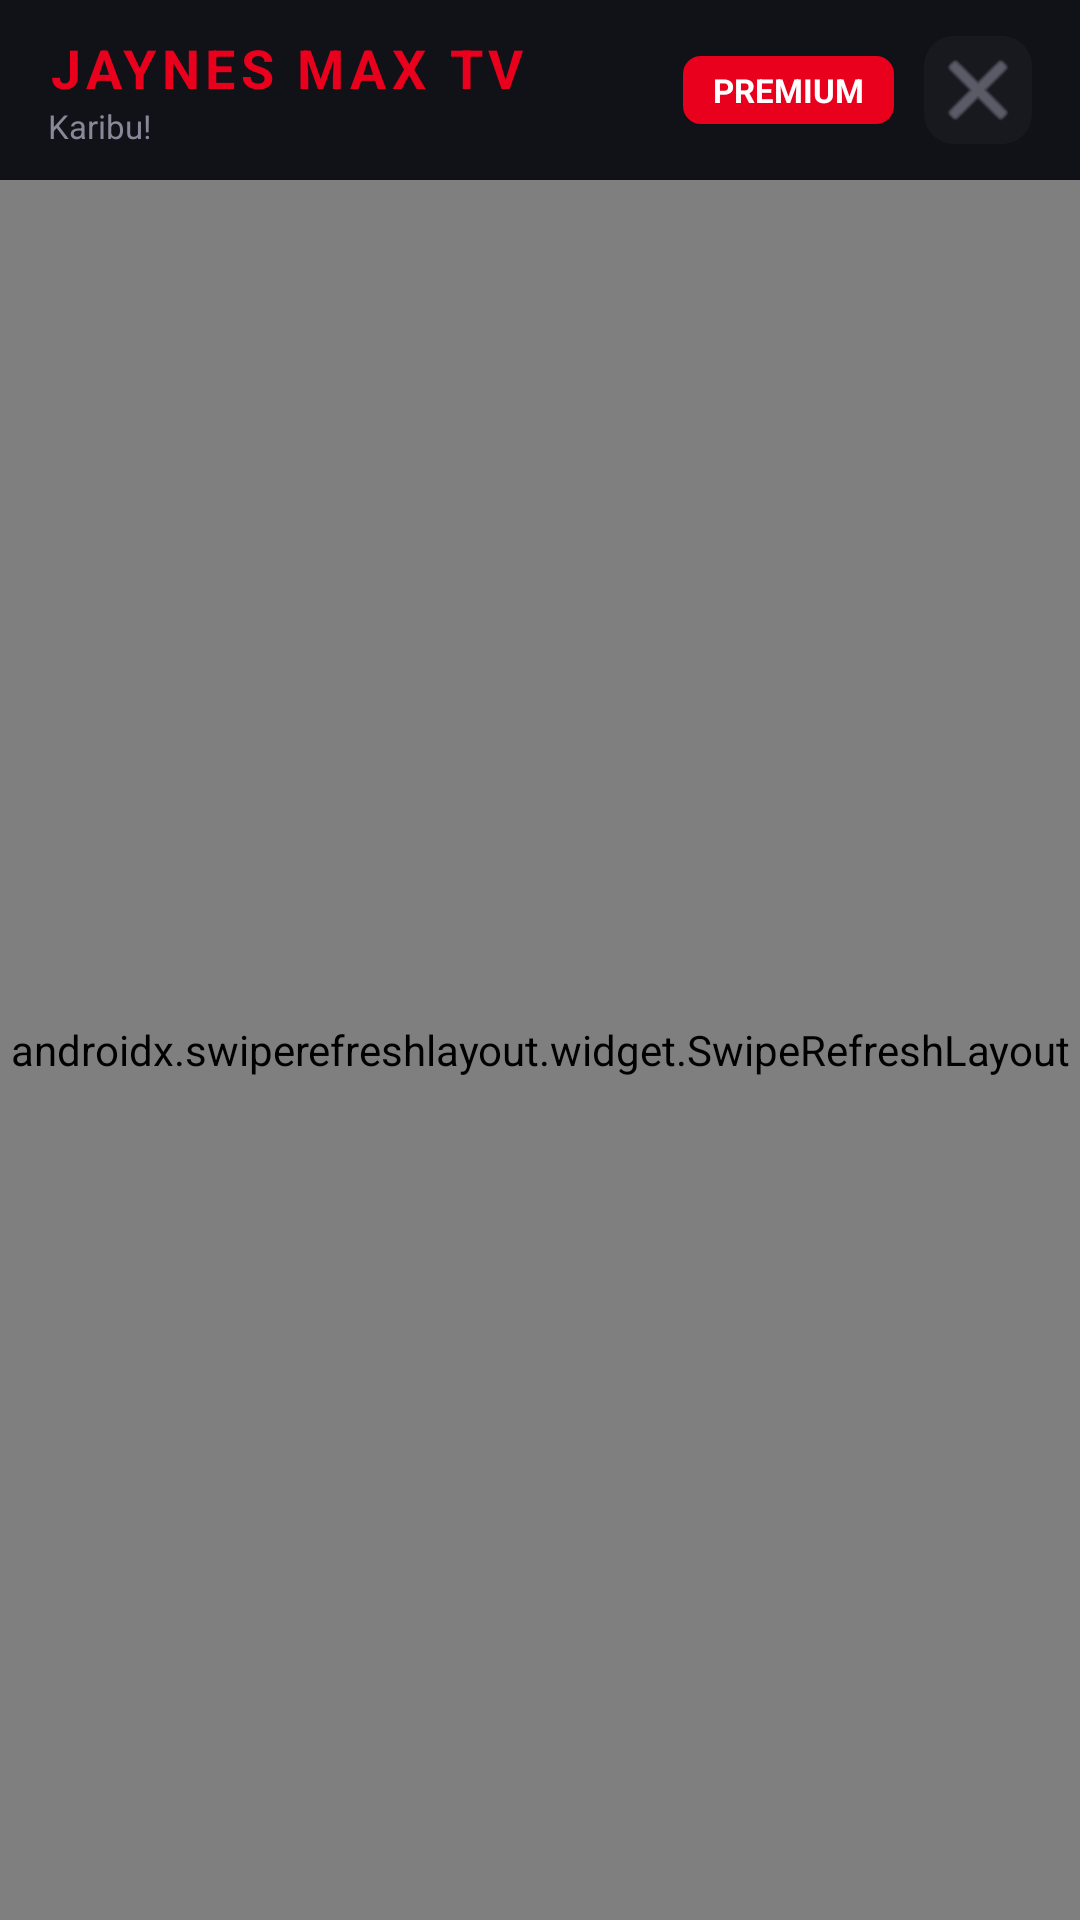

Icon click points for this 1080w x 1920h phone screenshot, format (x,y):
Toka: (978,90)
